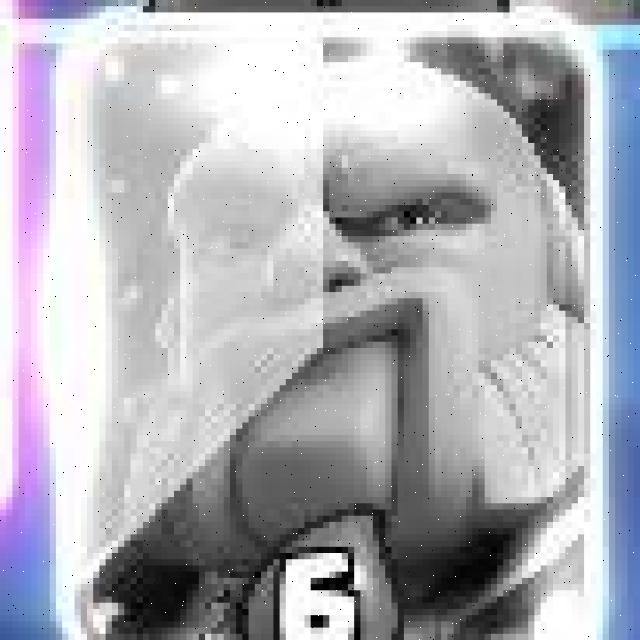Evolved_Royal_Giant: (59, 15, 607, 640)
